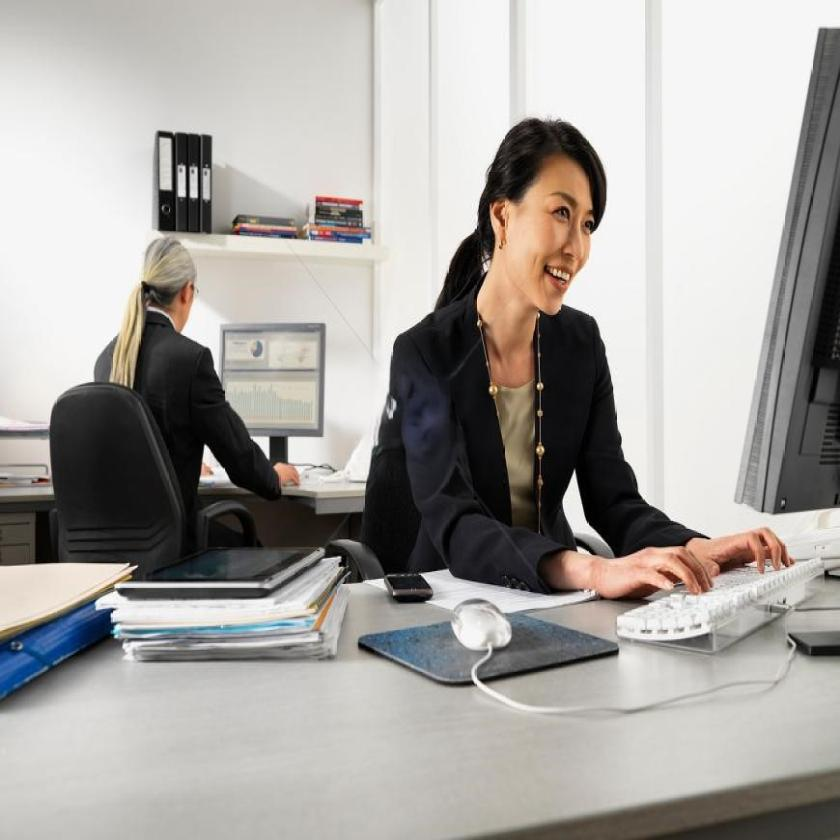Sin_casco: (476, 101, 622, 314), (134, 227, 200, 345)
